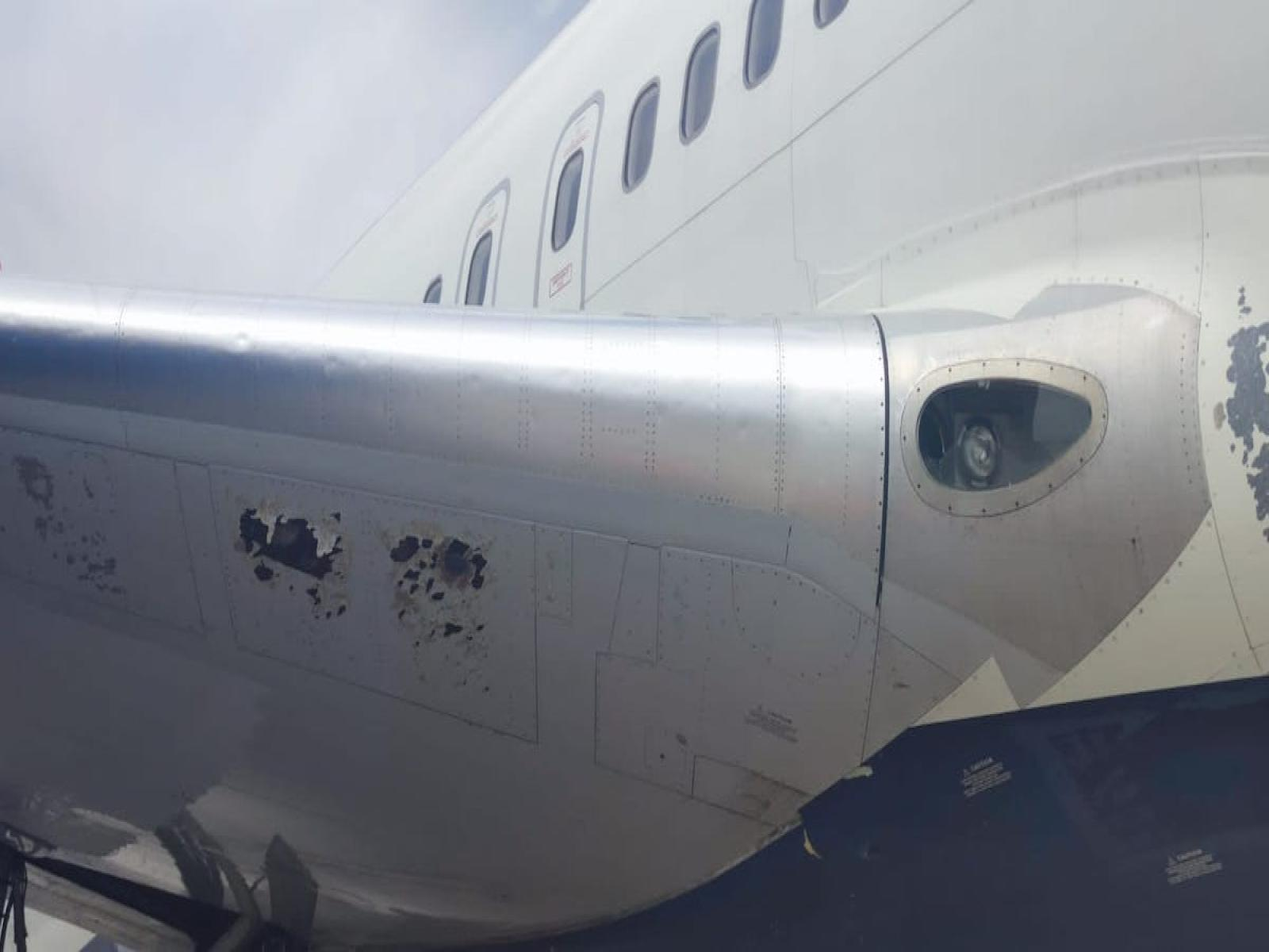Wing_damage: (389, 534, 489, 646), (1225, 320, 1268, 521), (239, 509, 342, 579), (17, 457, 51, 503)
